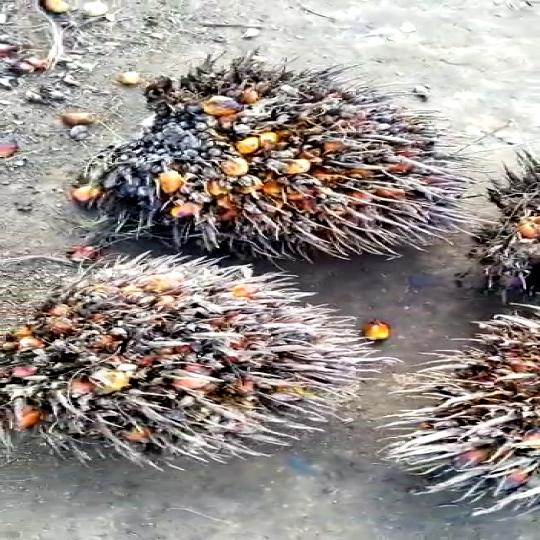terlalu masak: (0, 254, 380, 472), (92, 45, 458, 267)
